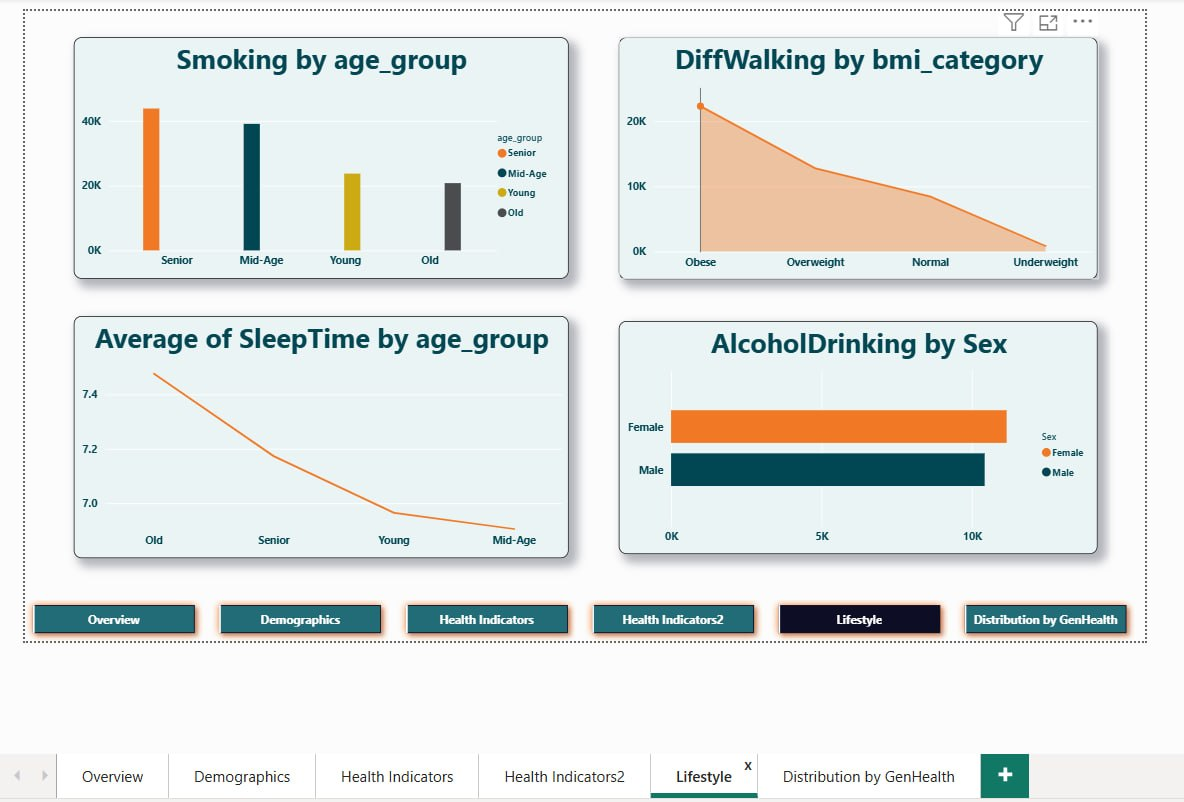

The page's visual inventory and layout, read from the dashboard file:
{"tool":"powerbi","page":{"name":"Lifestyle","canvas":[1280,720],"ordinal":4},"visuals":[{"type":"pageNavigator","box":[0,670,1271.2,50],"z":0},{"type":"clusteredColumnChart","title":"Smoking by age_group ","fields":{"Category":["heart_disease_transformed.age_group"],"Y":["Sum(heart_disease_transformed.Smoking)"],"Series":["heart_disease_transformed.age_group"]},"box":[56.3,30.2,565.4,275.8],"z":1000},{"type":"barChart","title":"AlcoholDrinking by Sex","fields":{"Category":["heart_disease_transformed.Sex"],"Y":["Sum(heart_disease_transformed.AlcoholDrinking)"],"Series":["heart_disease_transformed.Sex"]},"box":[679.2,354,547.5,266.2],"z":2000},{"type":"lineChart","title":"Average of SleepTime by age_group","fields":{"Y":["Avg(heart_disease_transformed.SleepTime)"],"Category":["heart_disease_transformed.age_group"]},"box":[56.3,348.5,565.4,277.2],"z":3000},{"type":"areaChart","title":"DiffWalking by bmi_category","fields":{"Category":["heart_disease_transformed.bmi_category"],"Y":["Sum(heart_disease_transformed.DiffWalking)"]},"box":[679.2,30.2,547.5,277.2],"z":4000}]}

Visuals, with their boxes on the page's 1280x720 design canvas (x1, y1, x2, y2). These are canvas units, not pixel positions in the 1184x802 screenshot, which may show the page scaled, cropped or inside an application window:
pageNavigator: rect(0, 670, 1271, 720)
"Smoking by age_group " clusteredColumnChart: rect(56, 30, 622, 306)
"AlcoholDrinking by Sex" barChart: rect(679, 354, 1227, 620)
"Average of SleepTime by age_group" lineChart: rect(56, 348, 622, 626)
"DiffWalking by bmi_category" areaChart: rect(679, 30, 1227, 307)
